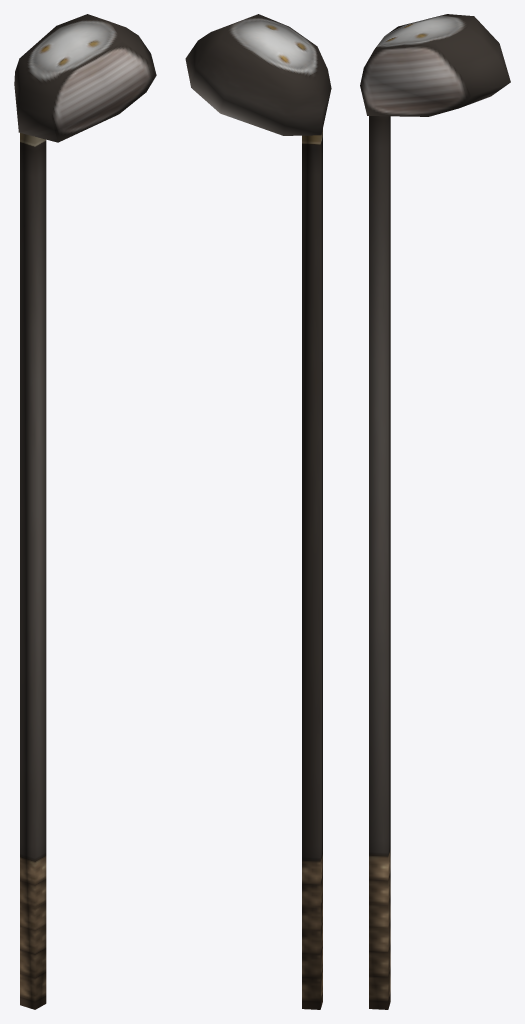
The model's file is yu_golf_club.glb.
The picture shows the model from 3 angles, left to right: view 1: azimuth 30°, elevation 25°; view 2: azimuth 150°, elevation 25°; view 3: azimuth 330°, elevation 25°; orthographic projection. The views are drawn at different scales.
Visible parts, largest first — view 1: sword_1_Part, sword_0_Part; view 2: sword_1_Part, sword_0_Part; view 3: sword_1_Part, sword_0_Part.
Boxes of the visible parts, box(x1,y1,x2,y2) form: sword_1_Part: box(14, 14, 156, 857); sword_0_Part: box(20, 852, 46, 1009); sword_1_Part: box(185, 14, 331, 857); sword_0_Part: box(302, 850, 322, 1009); sword_1_Part: box(360, 14, 510, 852); sword_0_Part: box(369, 845, 390, 1009).
Size of the model in its own units: 0.2052 by 1.4 by 0.1344.
2 materials, 2 textured.
